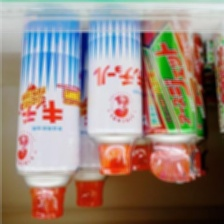aerosol_cans: (12, 0, 83, 222), (56, 25, 116, 213), (139, 4, 201, 185), (82, 1, 145, 179), (160, 25, 210, 181)
